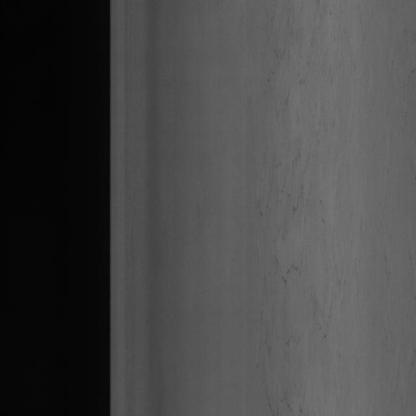silk_spot: (254, 96, 344, 343)
